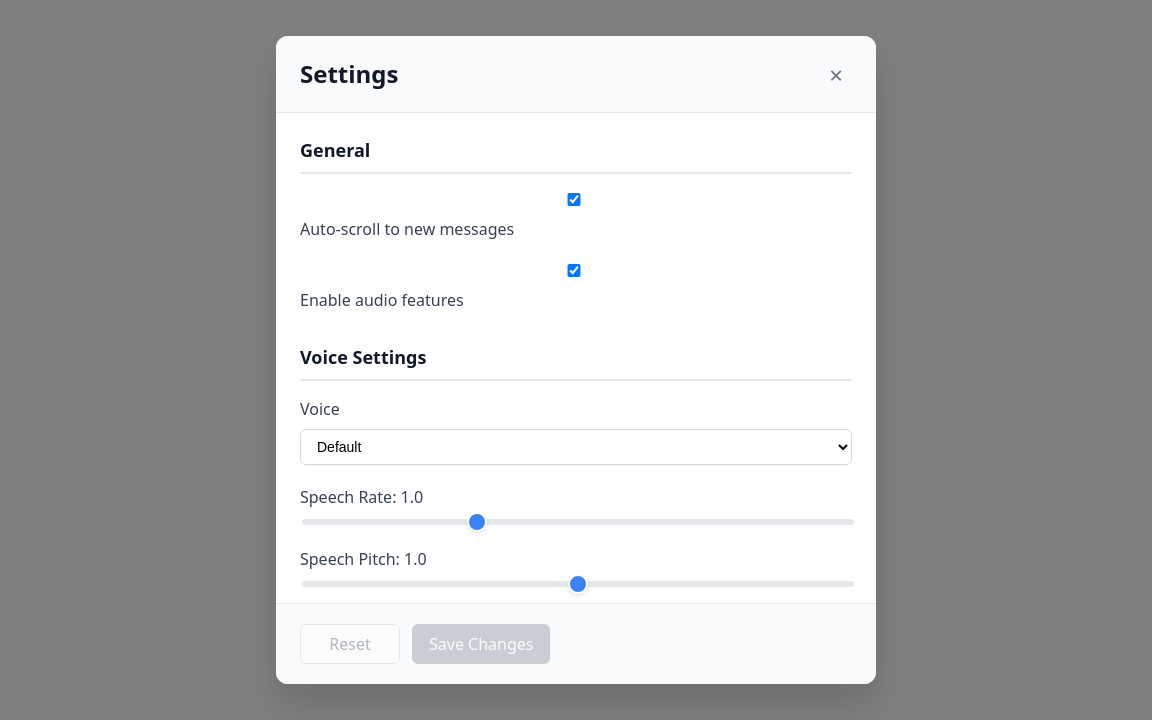
Test: SettingsPanel › Actions › resets changes when reset button is clicked
This screenshot has width=1152, height=720.
Make a change
Click the checkbox labelled "Auto-scroll to new messages": [574, 200] box top-left (304, 193), bottom-right (844, 206)
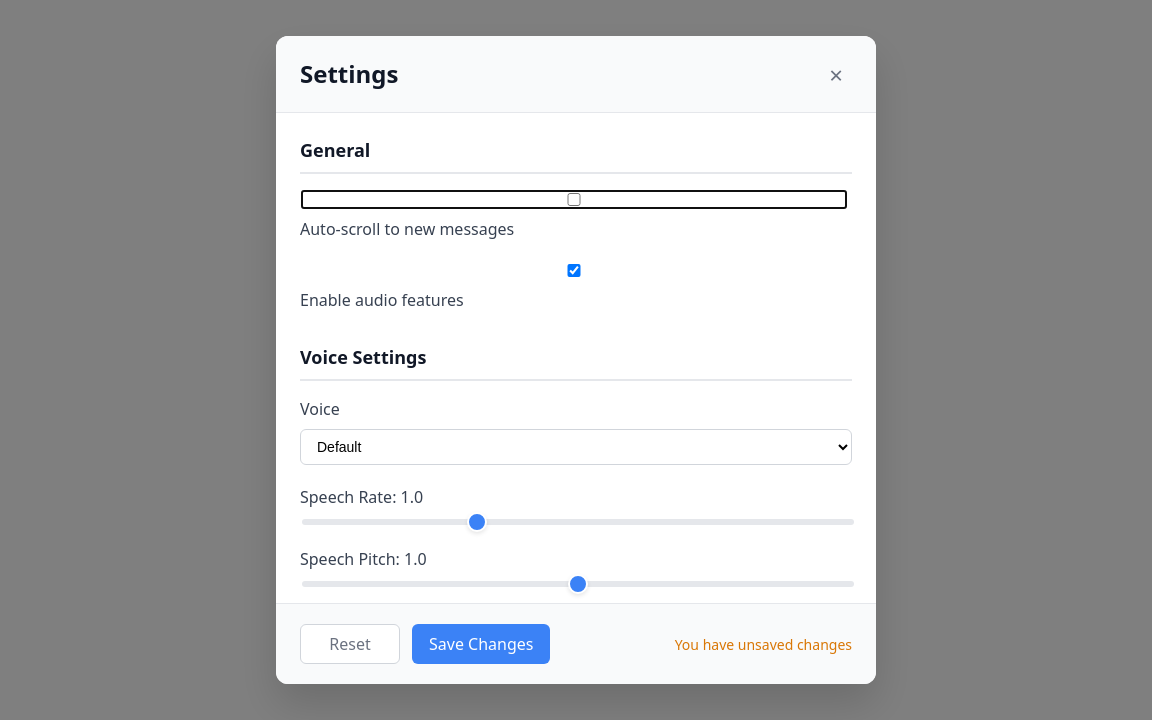
Expected: the button "Reset" is enabled
Click the button "Reset": [350, 644] box top-left (300, 624), bottom-right (400, 664)
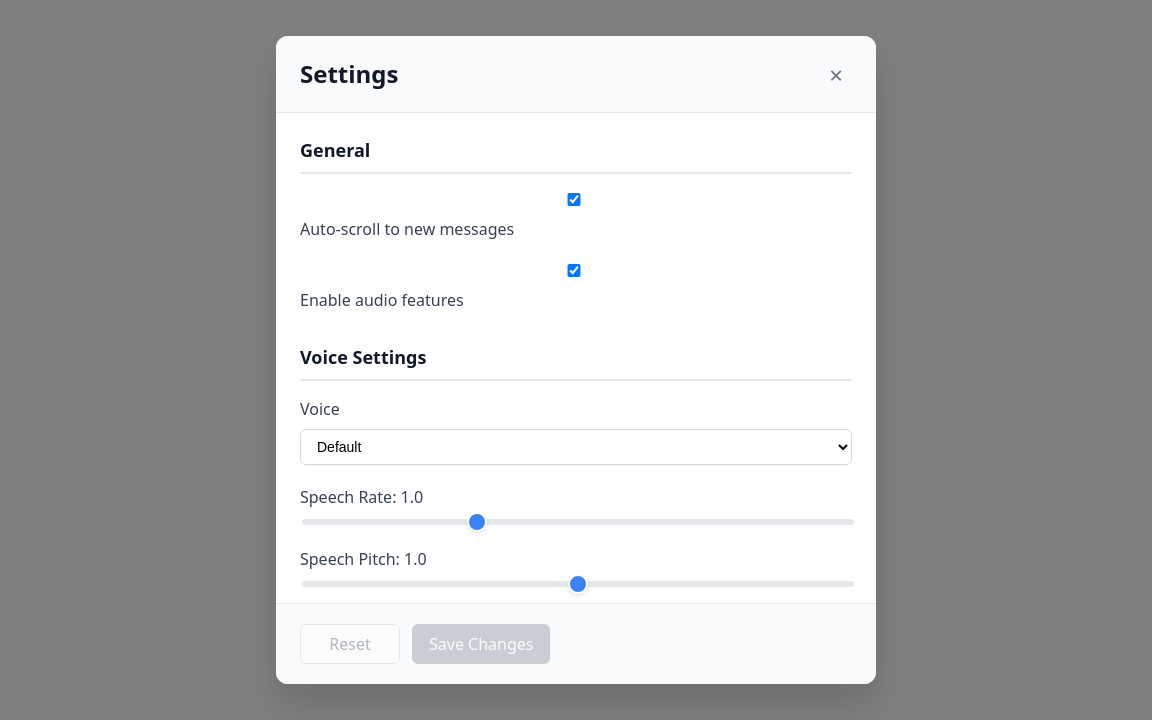
Expected: the checkbox labelled "Auto-scroll to new messages" is checked, top-left (304, 193), bottom-right (844, 206)
Expected: the button "Reset" is disabled, top-left (300, 624), bottom-right (400, 664)
